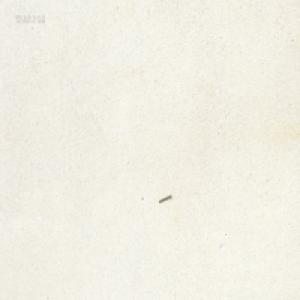Bolt: (157, 194, 171, 204)
